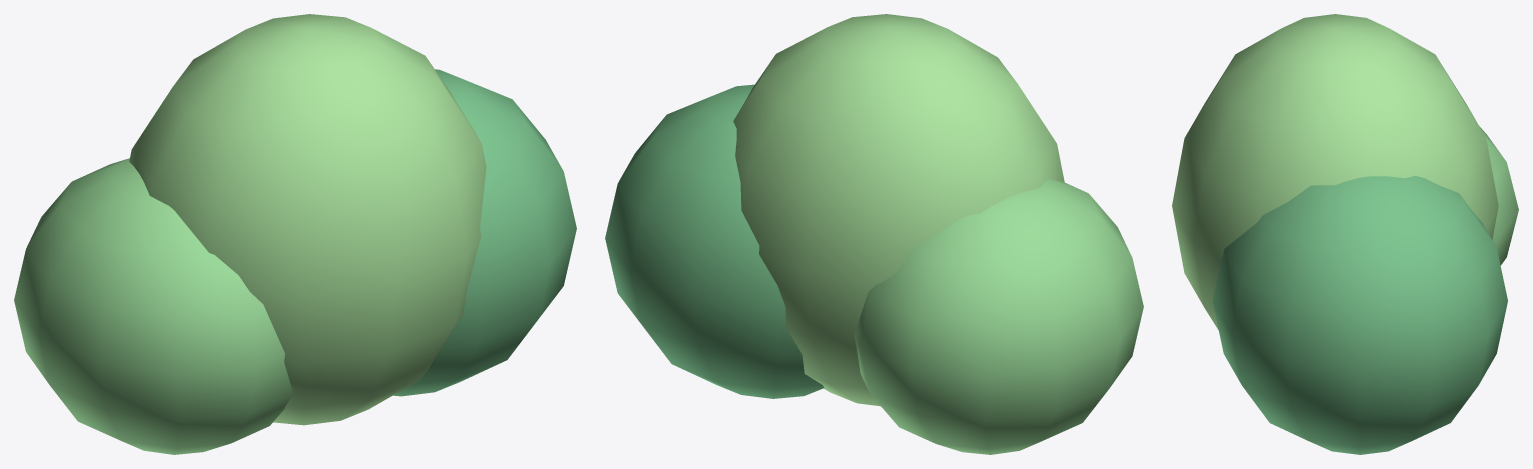
Rendered from shrub_summer.glb.
The picture shows the model from 3 angles, left to right: view 1: azimuth 30°, elevation 25°; view 2: azimuth 150°, elevation 25°; view 3: azimuth 270°, elevation 25°; orthographic projection. The views are drawn at different scales.
Visible parts, largest first — view 1: Base_Shrub (×3); view 2: Base_Shrub (×3); view 3: Base_Shrub (×3).
Part boxes in pixels (x1=…): Base_Shrub (×3): x1=14, y1=14, x2=576, y2=454; Base_Shrub (×3): x1=605, y1=14, x2=1143, y2=454; Base_Shrub (×3): x1=1172, y1=14, x2=1518, y2=454.
Size of the model in its own units: 1.77 by 1.27 by 1.12.
